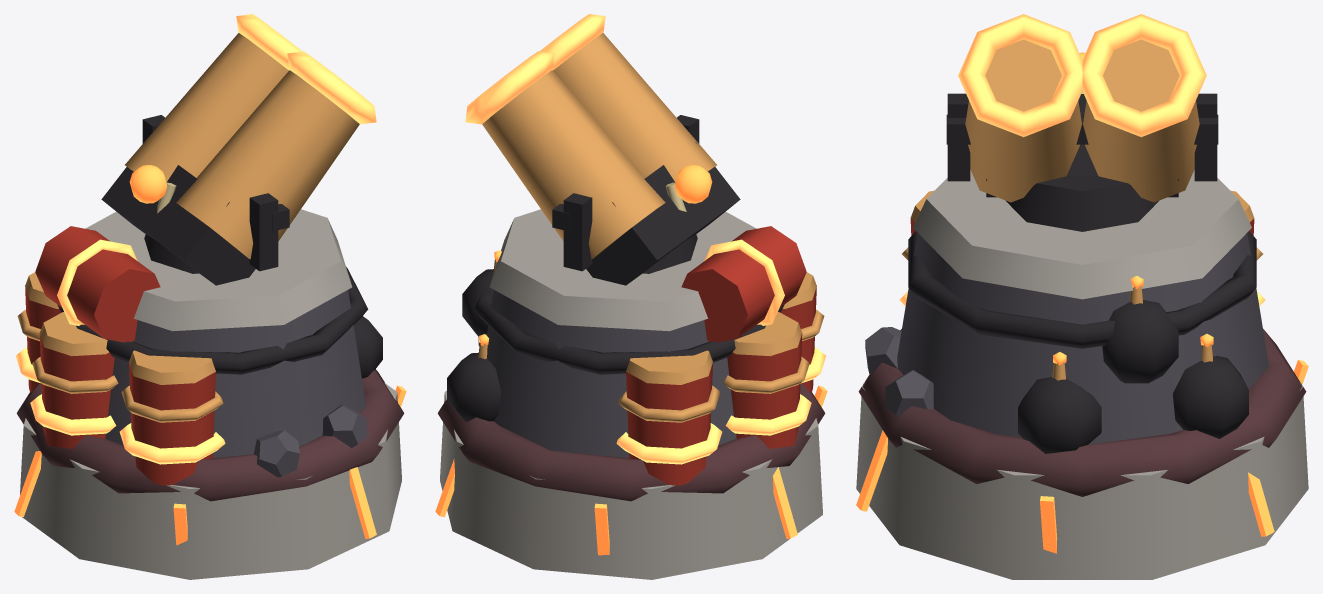
Rendered from tower_mine_earthquake.glb.
The picture shows the model from 3 angles, left to right: view 1: azimuth 30°, elevation 25°; view 2: azimuth 150°, elevation 25°; view 3: azimuth 270°, elevation 25°; orthographic projection. The views are drawn at different scales.
Parts seen in each view (by area): view 1: base, bunker, mortar_tube_l, bunker_cap, earthwall, mortar_tube_r, ammo_barrel_top, mortar_breech, barrel_0, bunker_band, barrel_2, mortar_mouth_l (+19 smaller); view 2: base, bunker, mortar_tube_r, bunker_cap, earthwall, mortar_tube_l, ammo_barrel_top, mortar_breech, barrel_1, bunker_band, barrel_2, big_mine_0 (+18 smaller); view 3: base, bunker, bunker_cap, earthwall, mortar_tube_l, mortar_tube_r, bunker_band, mortar_mouth_l, mortar_mouth_r, turret_yoke, big_mine_1, big_mine_2 (+10 smaller).
Boxes of the visible parts, bbox=[...] form: base: bbox=[20, 383, 401, 579]; bunker: bbox=[105, 290, 366, 458]; mortar_tube_l: bbox=[176, 70, 359, 259]; bunker_cap: bbox=[85, 209, 352, 331]; earthwall: bbox=[16, 369, 404, 501]; mortar_tube_r: bbox=[125, 33, 288, 182]; ammo_barrel_top: bbox=[35, 226, 160, 342]; mortar_breech: bbox=[101, 141, 255, 285]; barrel_0: bbox=[129, 362, 215, 485]; bunker_band: bbox=[57, 267, 368, 374]; barrel_2: bbox=[39, 333, 114, 448]; mortar_mouth_l: bbox=[287, 51, 376, 124]; base: bbox=[440, 390, 822, 579]; bunker: bbox=[486, 290, 736, 458]; mortar_tube_r: bbox=[482, 70, 665, 259]; bunker_cap: bbox=[489, 209, 756, 331]; earthwall: bbox=[437, 383, 825, 501]; mortar_tube_l: bbox=[553, 33, 716, 182]; ammo_barrel_top: bbox=[681, 226, 806, 342]; mortar_breech: bbox=[586, 141, 740, 285]; barrel_1: bbox=[626, 362, 712, 485]; bunker_band: bbox=[473, 292, 784, 374]; barrel_2: bbox=[727, 333, 802, 448]; big_mine_0: bbox=[447, 352, 501, 422]; base: bbox=[856, 383, 1308, 579]; bunker: bbox=[897, 233, 1268, 444]; bunker_cap: bbox=[913, 170, 1251, 299]; earthwall: bbox=[858, 329, 1306, 496]; mortar_tube_l: bbox=[965, 39, 1081, 202]; mortar_tube_r: bbox=[1083, 39, 1199, 202]; bunker_band: bbox=[908, 231, 1256, 348]; mortar_mouth_l: bbox=[958, 14, 1082, 137]; mortar_mouth_r: bbox=[1082, 14, 1206, 137]; turret_yoke: bbox=[1005, 176, 1159, 231]; big_mine_1: bbox=[1018, 377, 1101, 453]; big_mine_2: bbox=[1102, 300, 1178, 383].
Bounding box in the file's own units: 0.4224 × 0.4971 × 0.4004.
